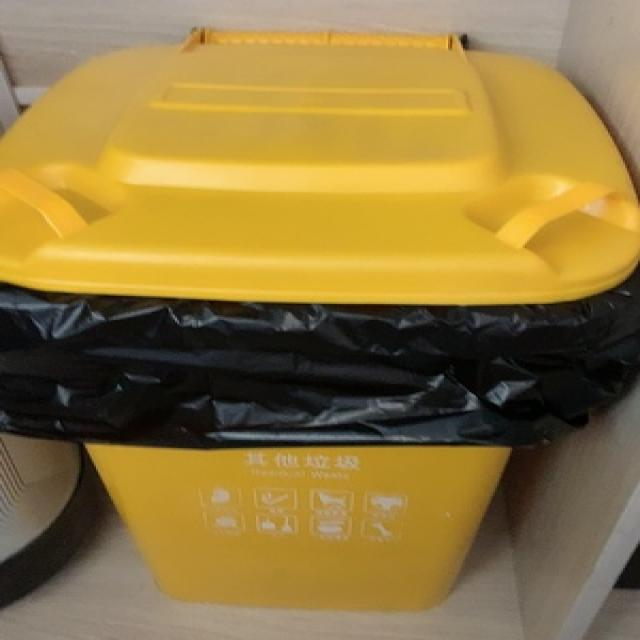ash bin: (0, 22, 638, 613)
